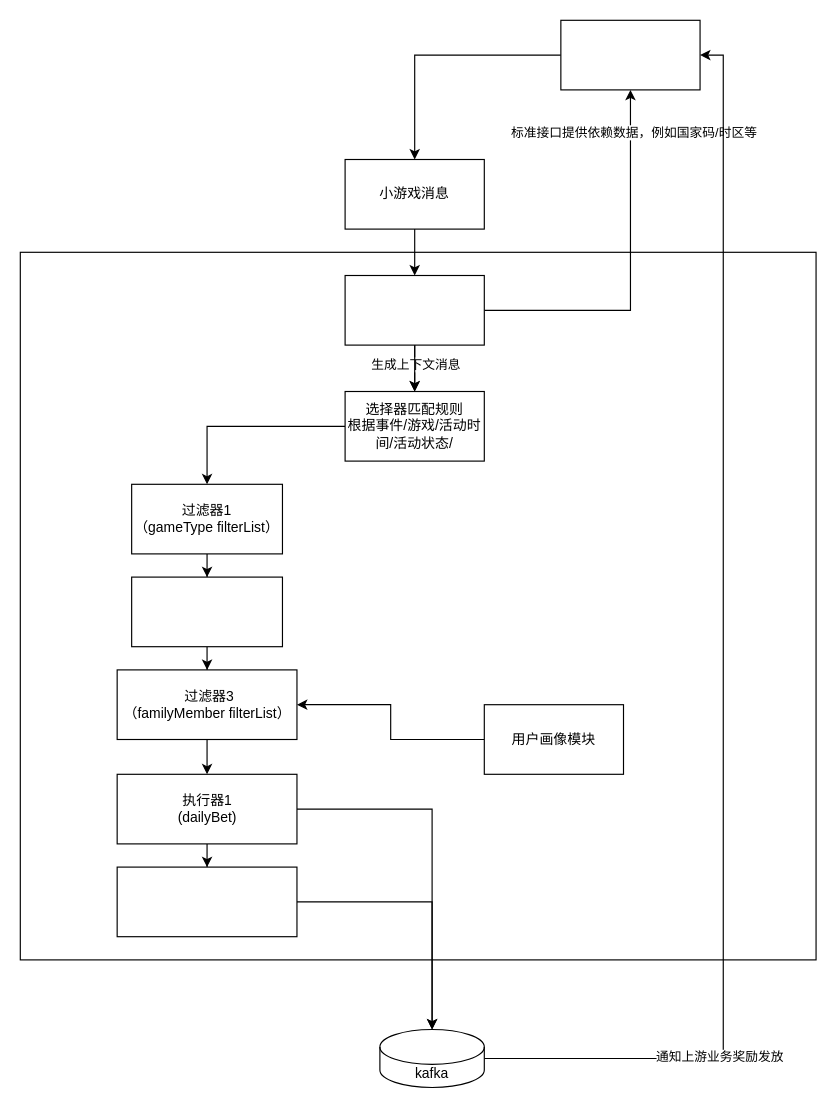
This 836x1108 diagram has some shape labels left out. The centre of each missing label's shape, as x and y in pixels:
上游营收业务: the point at 630,54
执行器2 (dailyWin): the point at 206,901
规则组装: the point at 414,309
过滤器2 （winDiamond filterList）: the point at 206,611
